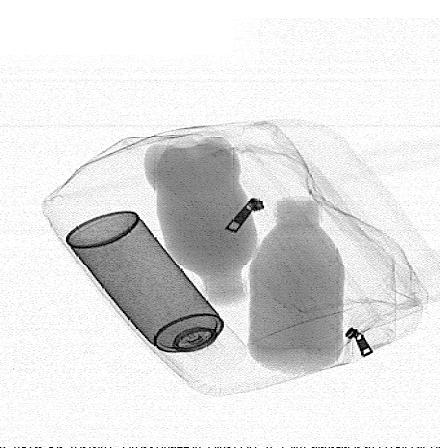Sprayer: (65, 211, 250, 381)
